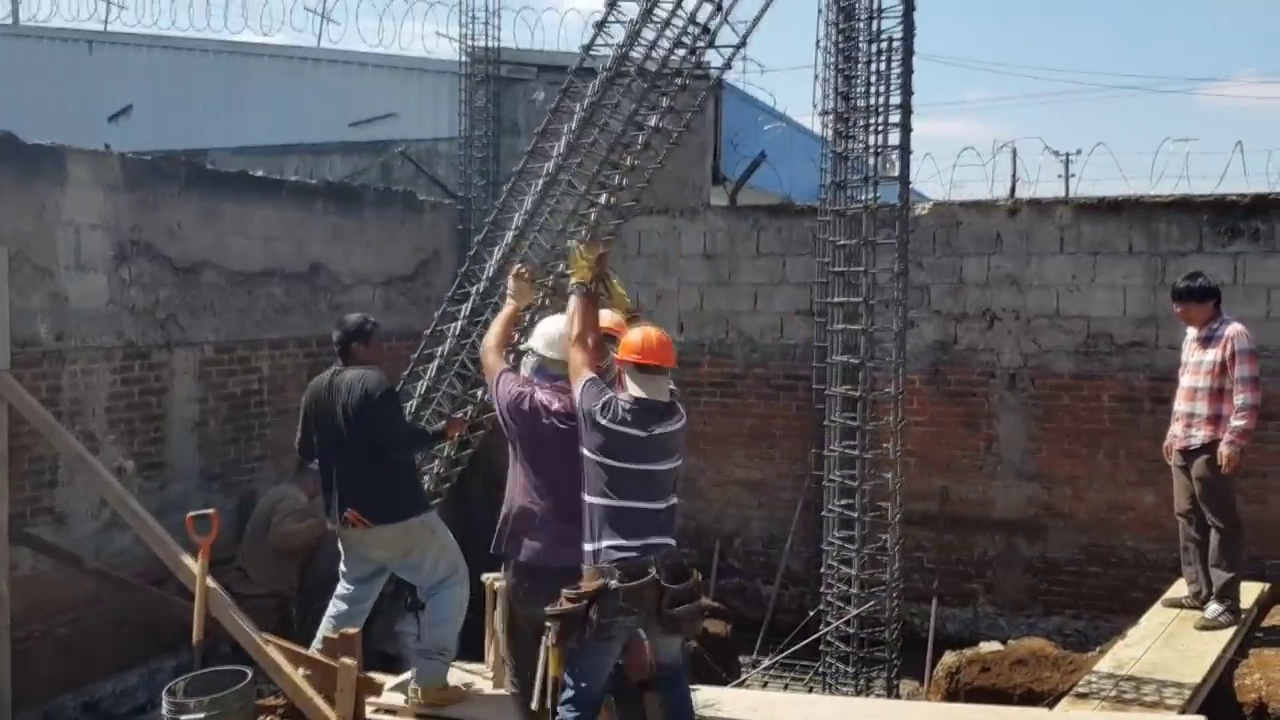helmet: (620, 327, 678, 379), (518, 313, 572, 363)
helmet-off: (1177, 274, 1232, 338), (329, 319, 384, 377)
helmet-on: (611, 324, 679, 406), (516, 314, 576, 391)
person: (294, 313, 458, 695), (564, 239, 684, 708), (480, 264, 575, 685), (1162, 268, 1261, 649), (235, 448, 326, 637)
